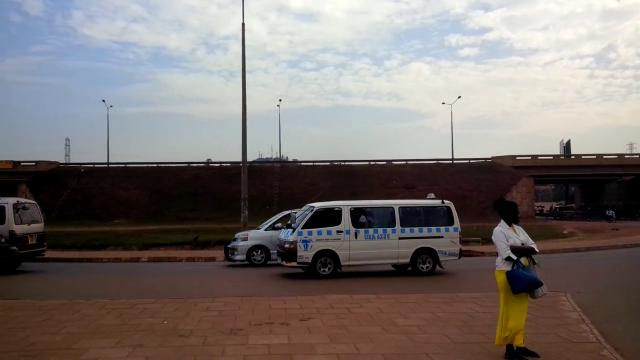van: (276, 191, 461, 277)
